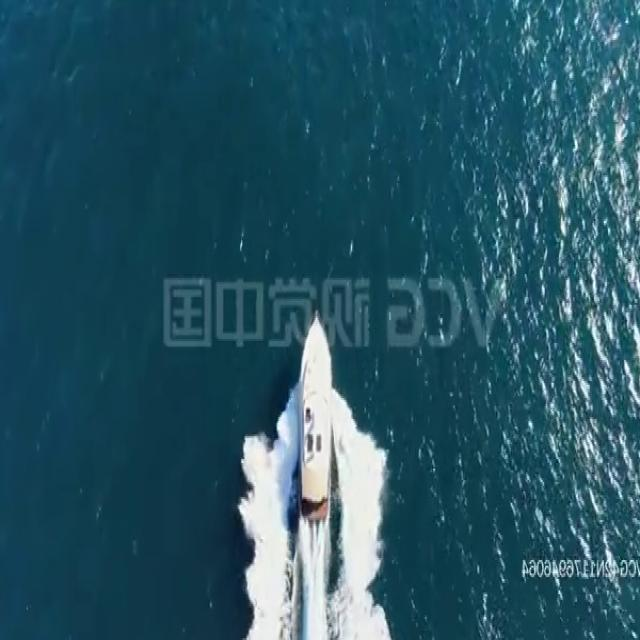houseboat: (294, 312, 334, 516)
